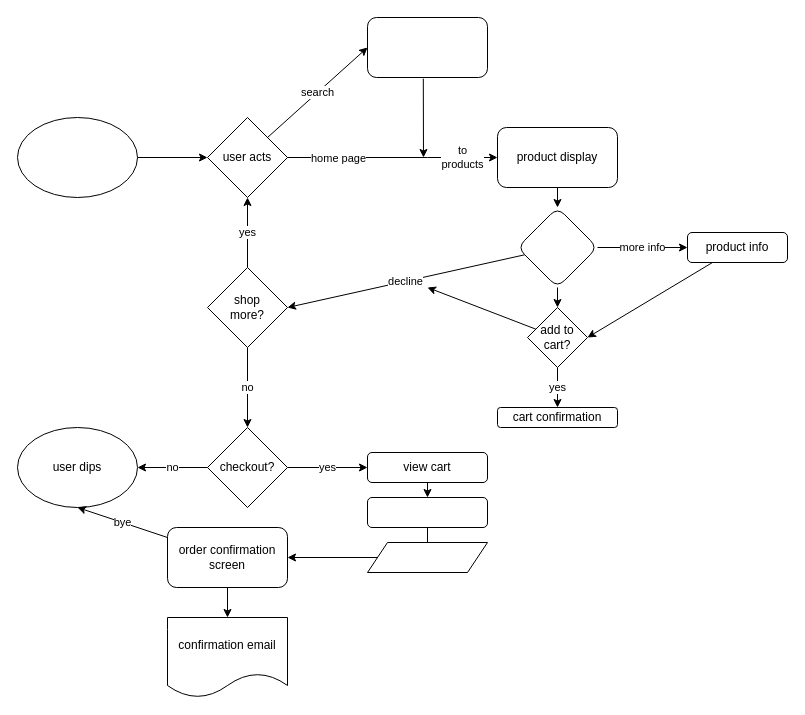
Some shapes in this 805 by 715 pixel diagram are drawn without their labels. The centre of each missing label's shape, as x and y in pixels:
"check this out" belongs at (x=557, y=247).
"get search input" belongs at (x=427, y=47).
"payment info" belongs at (x=427, y=557).
"User arrives" belongs at (x=77, y=157).
"view payment" belongs at (x=427, y=512).
